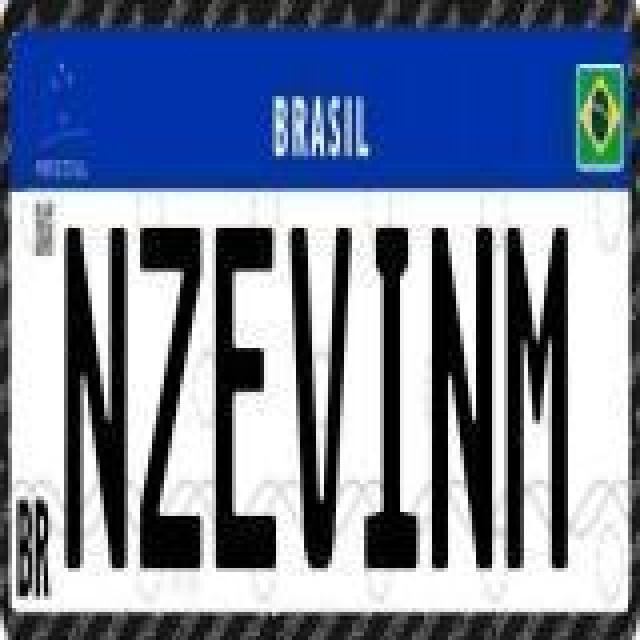E: (216, 222, 280, 570)
I: (364, 226, 420, 574)
M: (504, 228, 568, 572)
N: (64, 224, 128, 576), (432, 222, 496, 570)
V: (288, 226, 352, 574)
Z: (136, 222, 200, 570)
